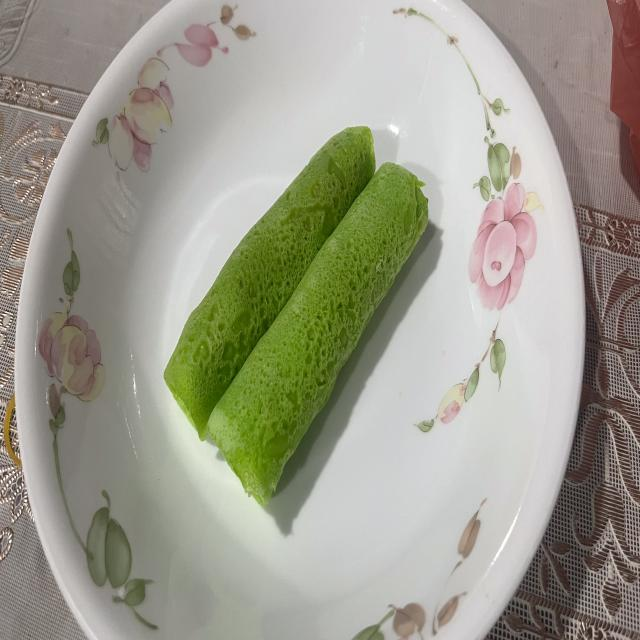Kuih-Ketayap: (208, 162, 429, 504), (164, 127, 375, 440)
